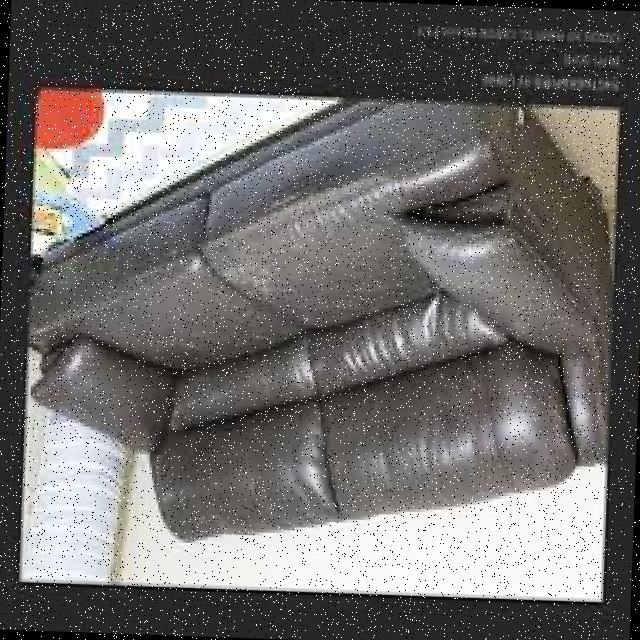Sofa: (19, 89, 618, 572)
